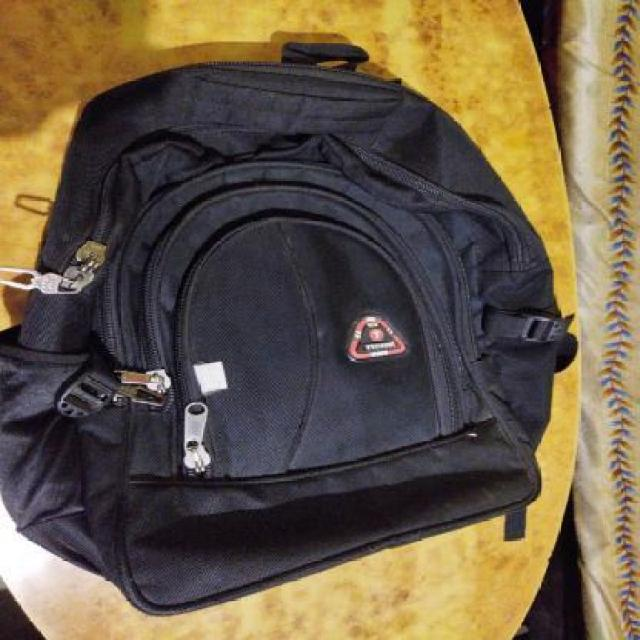backpack: (0, 37, 585, 623)
